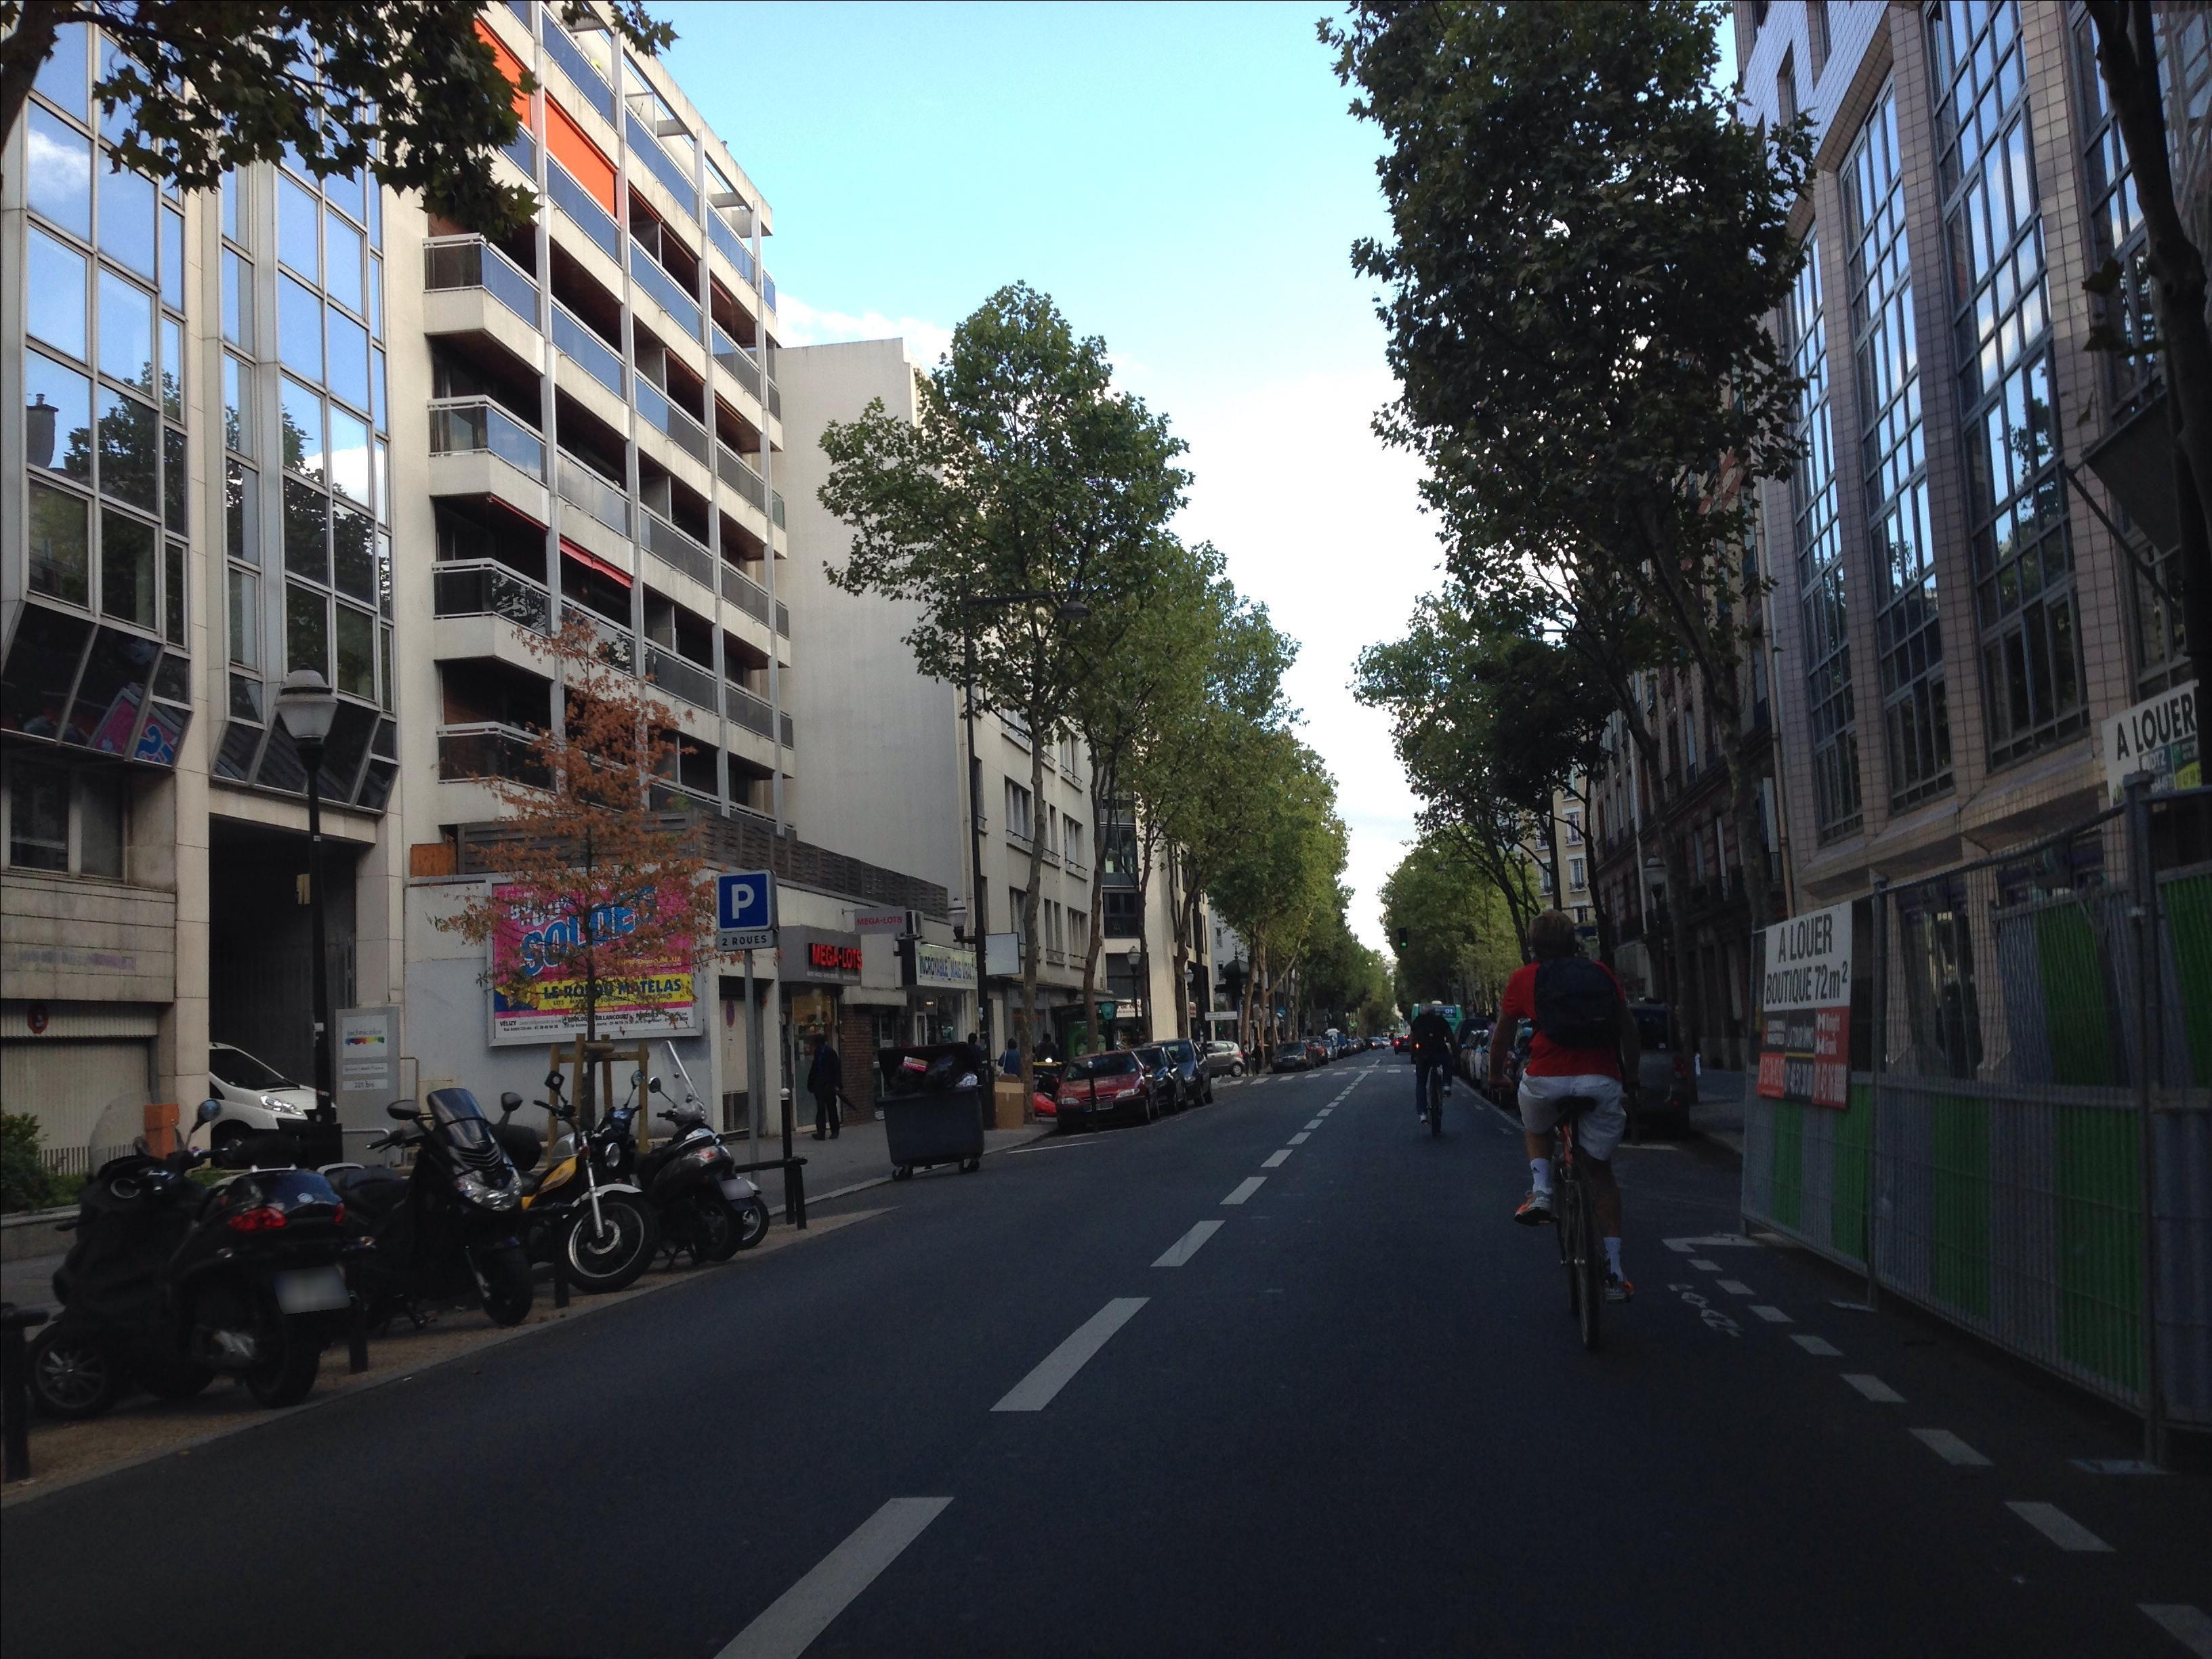vinyl banner: (1747, 890, 1881, 1114)
